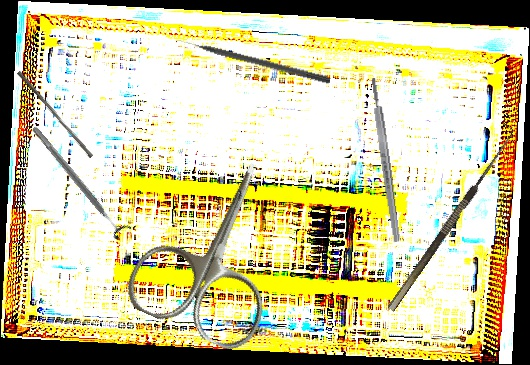Fixation Ring: (26, 120, 133, 243)
Hook Surgical: (378, 122, 519, 312)
Iris Scissors: (118, 136, 318, 358)
Pusher: (175, 34, 332, 85), (13, 70, 97, 159)
Scalpel Handle: (368, 77, 402, 243)
